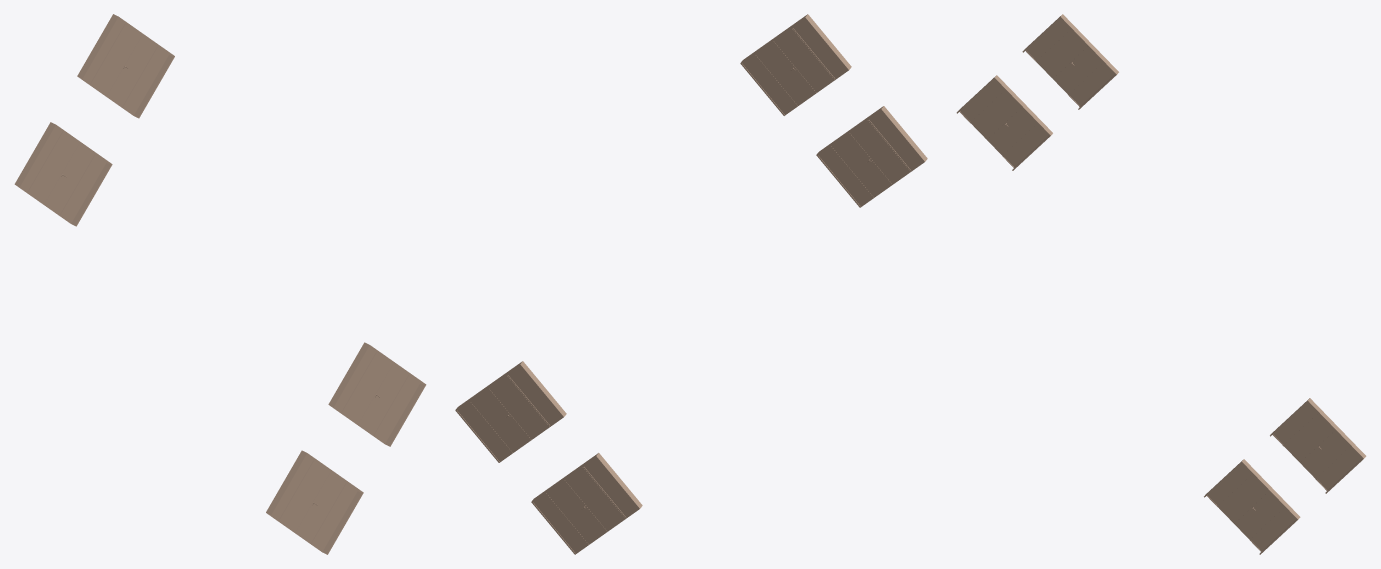
The picture shows the model from 3 angles, left to right: view 1: azimuth 30°, elevation 25°; view 2: azimuth 150°, elevation 25°; view 3: azimuth 330°, elevation 25°; orthographic projection. The views are drawn at different scales.
Parts seen in each view (by area): view 1: mesh; view 2: mesh; view 3: mesh.
Part boxes in pixels (left/top/right/bottom): mesh: left=14, top=14, right=426, bottom=554; mesh: left=455, top=14, right=927, bottom=554; mesh: left=956, top=14, right=1366, bottom=554.
Bounding box in the file's own units: 15.34 × 19.7 × 2.73.
